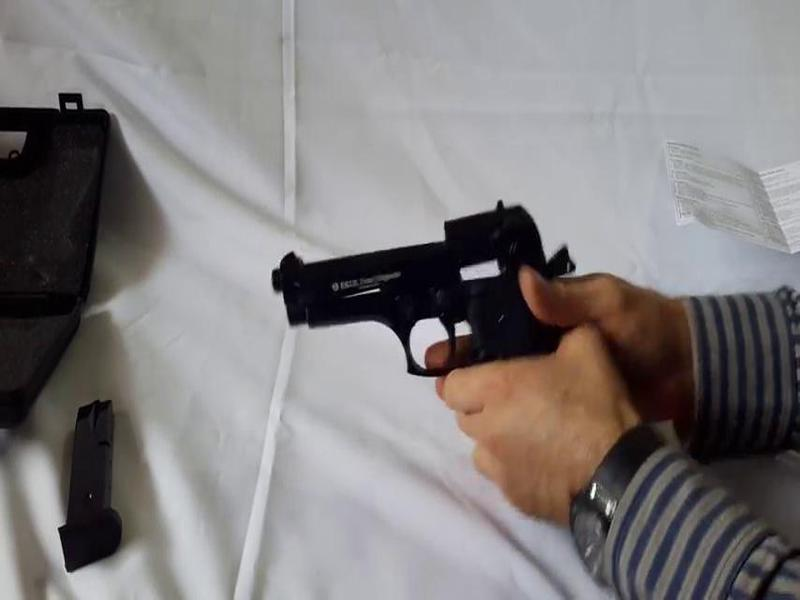Pistola: (278, 194, 593, 384)
